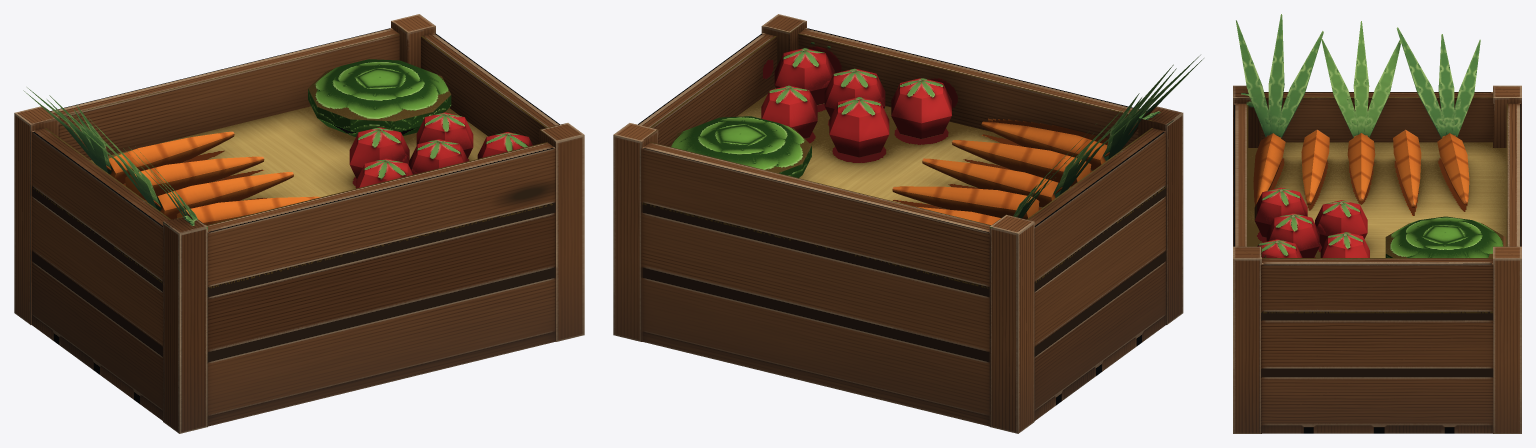
Rendered from Crate_Vegetables_01.fbx.
The picture shows the model from 3 angles, left to right: view 1: azimuth 30°, elevation 25°; view 2: azimuth 150°, elevation 25°; view 3: azimuth 270°, elevation 25°; orthographic projection. The views are drawn at different scales.
Parts seen in each view (by area): view 1: Crate_Vegetables_01; view 2: Crate_Vegetables_01; view 3: Crate_Vegetables_01.
Boxes of the visible parts, left/top/right/bottom form: Crate_Vegetables_01: left=14, top=14, right=584, bottom=433; Crate_Vegetables_01: left=613, top=14, right=1203, bottom=433; Crate_Vegetables_01: left=1233, top=14, right=1521, bottom=433.
Size of the model in its own units: 0.5393 by 0.3289 by 0.36.
Materials: 1 (1 with a texture image).
